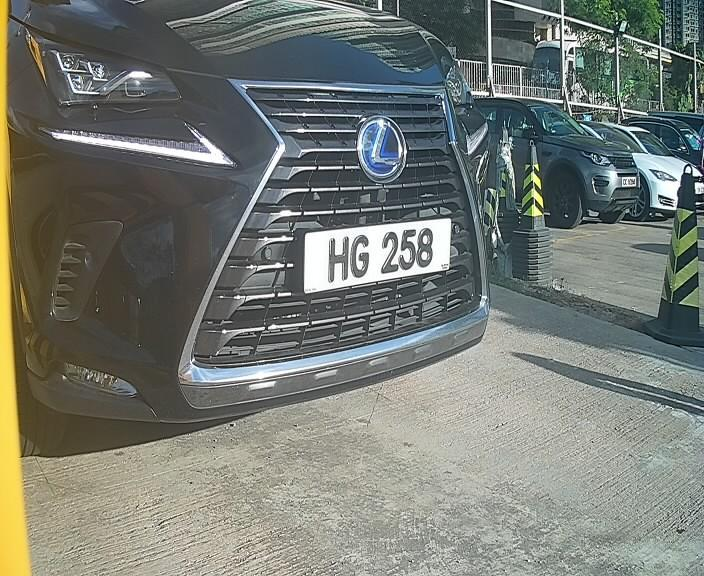License Plate: (299, 209, 453, 299)
